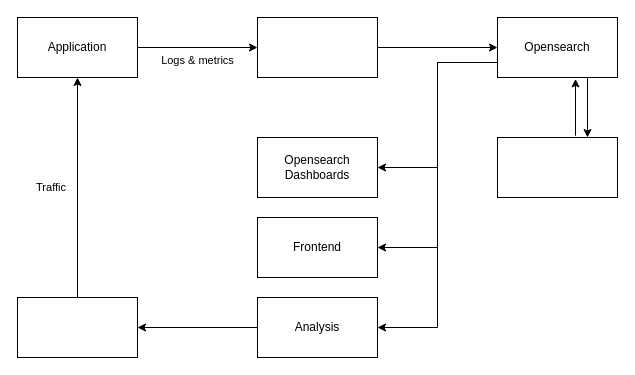
The diagram is 635 pixels wide and 375 high, and some of its shapes have lost their labels. Here are the shapes that lost their labels. From the top down, the centre of each, then its label:
point (317, 47): Fluent-bit
point (557, 167): Metric processor
point (77, 327): Testing
